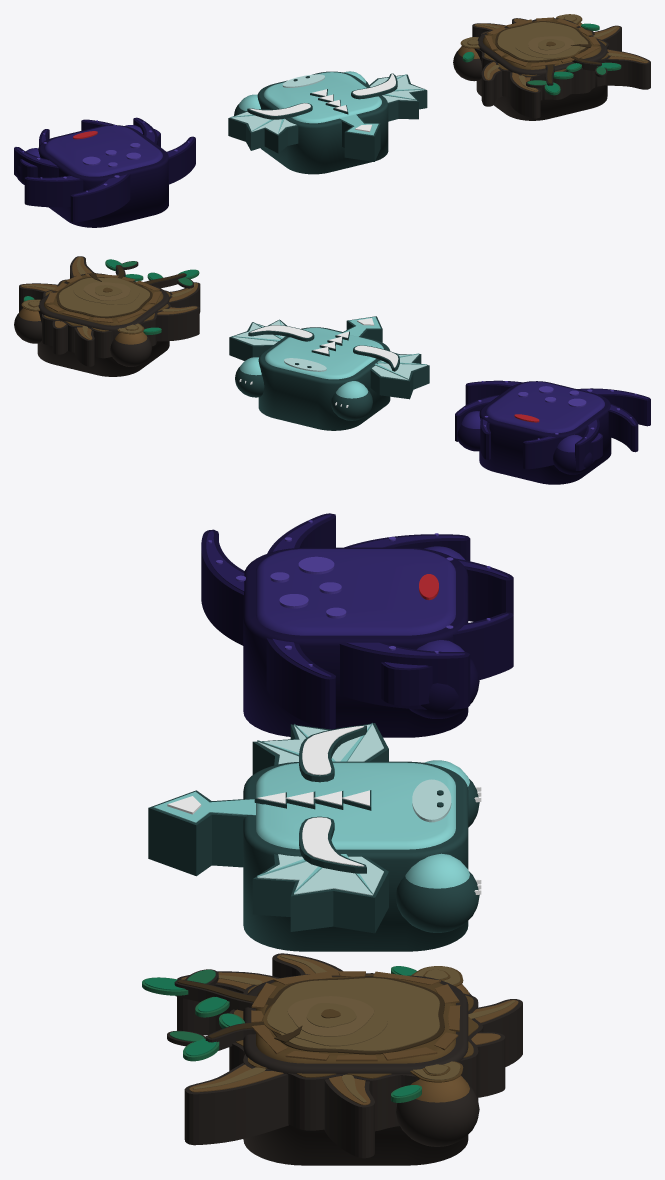
File: skins-corpo_animado.fbx
The picture shows the model from 3 angles, top to bottom: view 1: azimuth 30°, elevation 25°; view 2: azimuth 150°, elevation 25°; view 3: azimuth 270°, elevation 25°; orthographic projection. The views are drawn at different scales.
Visible parts, largest first — view 1: body_dragao_corpo, body_toco_corpo, body_polvo_corpo, body_polvo, body_toco, body_dragao_anim_asa_esq, body_dragao_anim_rabo, body_dragao_anim_asa_dir, body_toco_mao_esq, body_toco_anim_broto_esq, body_toco_anim_broto_dir, body_polvo_mao_esq (+1 smaller); view 2: body_dragao_corpo, body_toco_corpo, body_polvo_corpo, body_polvo, body_toco, body_dragao_anim_asa_esq, body_toco_mao_esq, body_dragao_mao_esq, body_dragao_anim_asa_dir, body_polvo_mao_esq, body_toco_mao, body_dragao_mao (+4 smaller); view 3: body_toco_corpo, body_dragao_corpo, body_polvo_corpo, body_polvo, body_toco, body_dragao_anim_asa_dir, body_dragao_anim_rabo, body_toco_mao, body_dragao_mao, body_polvo_mao, body_dragao_anim_asa_esq, body_toco_anim_broto_esq (+1 smaller).
Part boxes in pixels (box(x1,y1,x2,y2)): body_dragao_corpo: box(247, 71, 397, 174); body_toco_corpo: box(474, 17, 610, 120); body_polvo_corpo: box(38, 125, 168, 227); body_polvo: box(14, 117, 195, 222); body_toco: box(472, 18, 650, 118); body_dragao_anim_asa_esq: box(228, 109, 298, 153); body_dragao_anim_rabo: box(340, 114, 380, 161); body_dragao_anim_asa_dir: box(369, 74, 427, 121); body_toco_mao_esq: box(453, 37, 481, 81); body_toco_anim_broto_esq: box(526, 61, 573, 95); body_toco_anim_broto_dir: box(566, 56, 621, 77); body_polvo_mao_esq: box(14, 148, 40, 184); body_dragao_corpo: box(248, 325, 399, 430); body_toco_corpo: box(37, 273, 172, 376); body_polvo_corpo: box(479, 381, 611, 484); body_polvo: box(455, 380, 650, 470); body_toco: box(19, 256, 200, 366); body_dragao_anim_asa_esq: box(370, 353, 429, 399); body_toco_mao_esq: box(110, 323, 161, 366); body_dragao_mao_esq: box(331, 381, 372, 420); body_dragao_anim_asa_dir: box(229, 319, 286, 360); body_polvo_mao_esq: box(553, 433, 602, 474); body_toco_mao: box(14, 296, 41, 343); body_dragao_mao: box(235, 357, 264, 397); body_toco_corpo: box(229, 971, 483, 1165); body_dragao_corpo: box(243, 725, 468, 951); body_polvo_corpo: box(243, 547, 468, 737); body_polvo: box(201, 513, 513, 729); body_toco: box(177, 953, 522, 1158); body_dragao_anim_asa_dir: box(252, 854, 388, 933); body_dragao_anim_rabo: box(148, 790, 255, 876); body_toco_mao: box(391, 1061, 479, 1146); body_dragao_mao: box(395, 853, 481, 932); body_polvo_mao: box(381, 640, 479, 718); body_dragao_anim_asa_esq: box(252, 723, 388, 774); body_toco_anim_broto_esq: box(142, 969, 272, 1017).
Bounding box in the file's own units: 24.83 × 2.13 × 6.77.
1 material, 1 textured.
